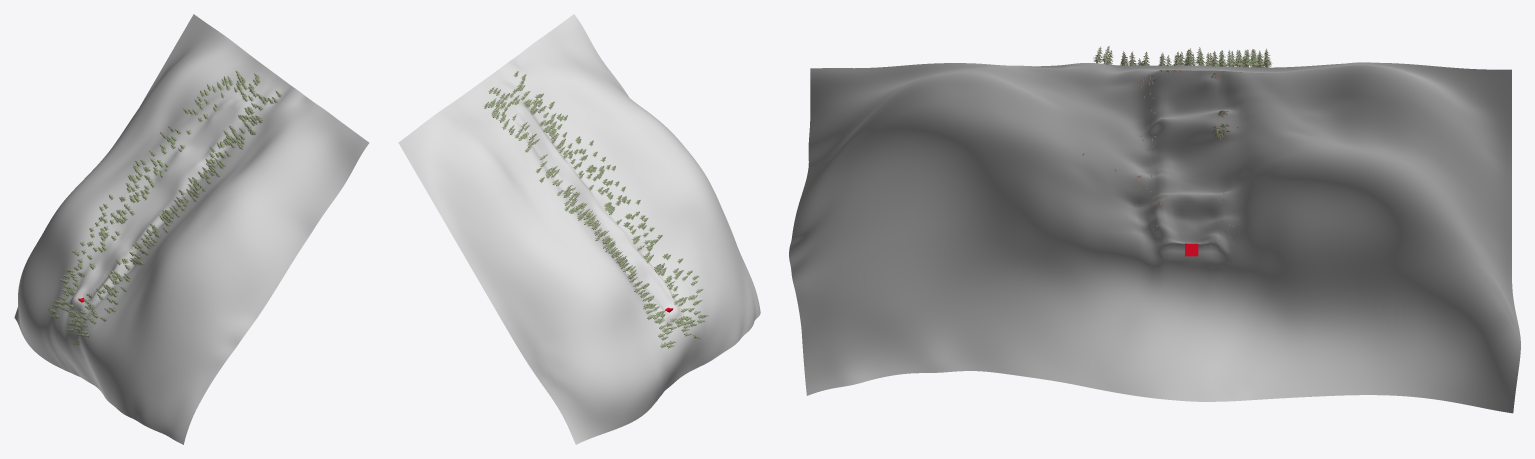
File: GrassSkiTerrain2.fbx
The picture shows the model from 3 angles, left to right: view 1: azimuth 30°, elevation 25°; view 2: azimuth 150°, elevation 25°; view 3: azimuth 270°, elevation 25°; orthographic projection. The views are drawn at different scales.
Parts seen in each view (by area): view 1: Landscape.002; view 2: Landscape.002; view 3: Landscape.002.
Part boxes in pixels (box(x1,y1,x2,y2)): Landscape.002: box(14, 14, 369, 444); Landscape.002: box(398, 14, 760, 444); Landscape.002: box(789, 62, 1520, 413).
Size of what is drawn, in the model's own units: 11515 by 13602 by 17197.
